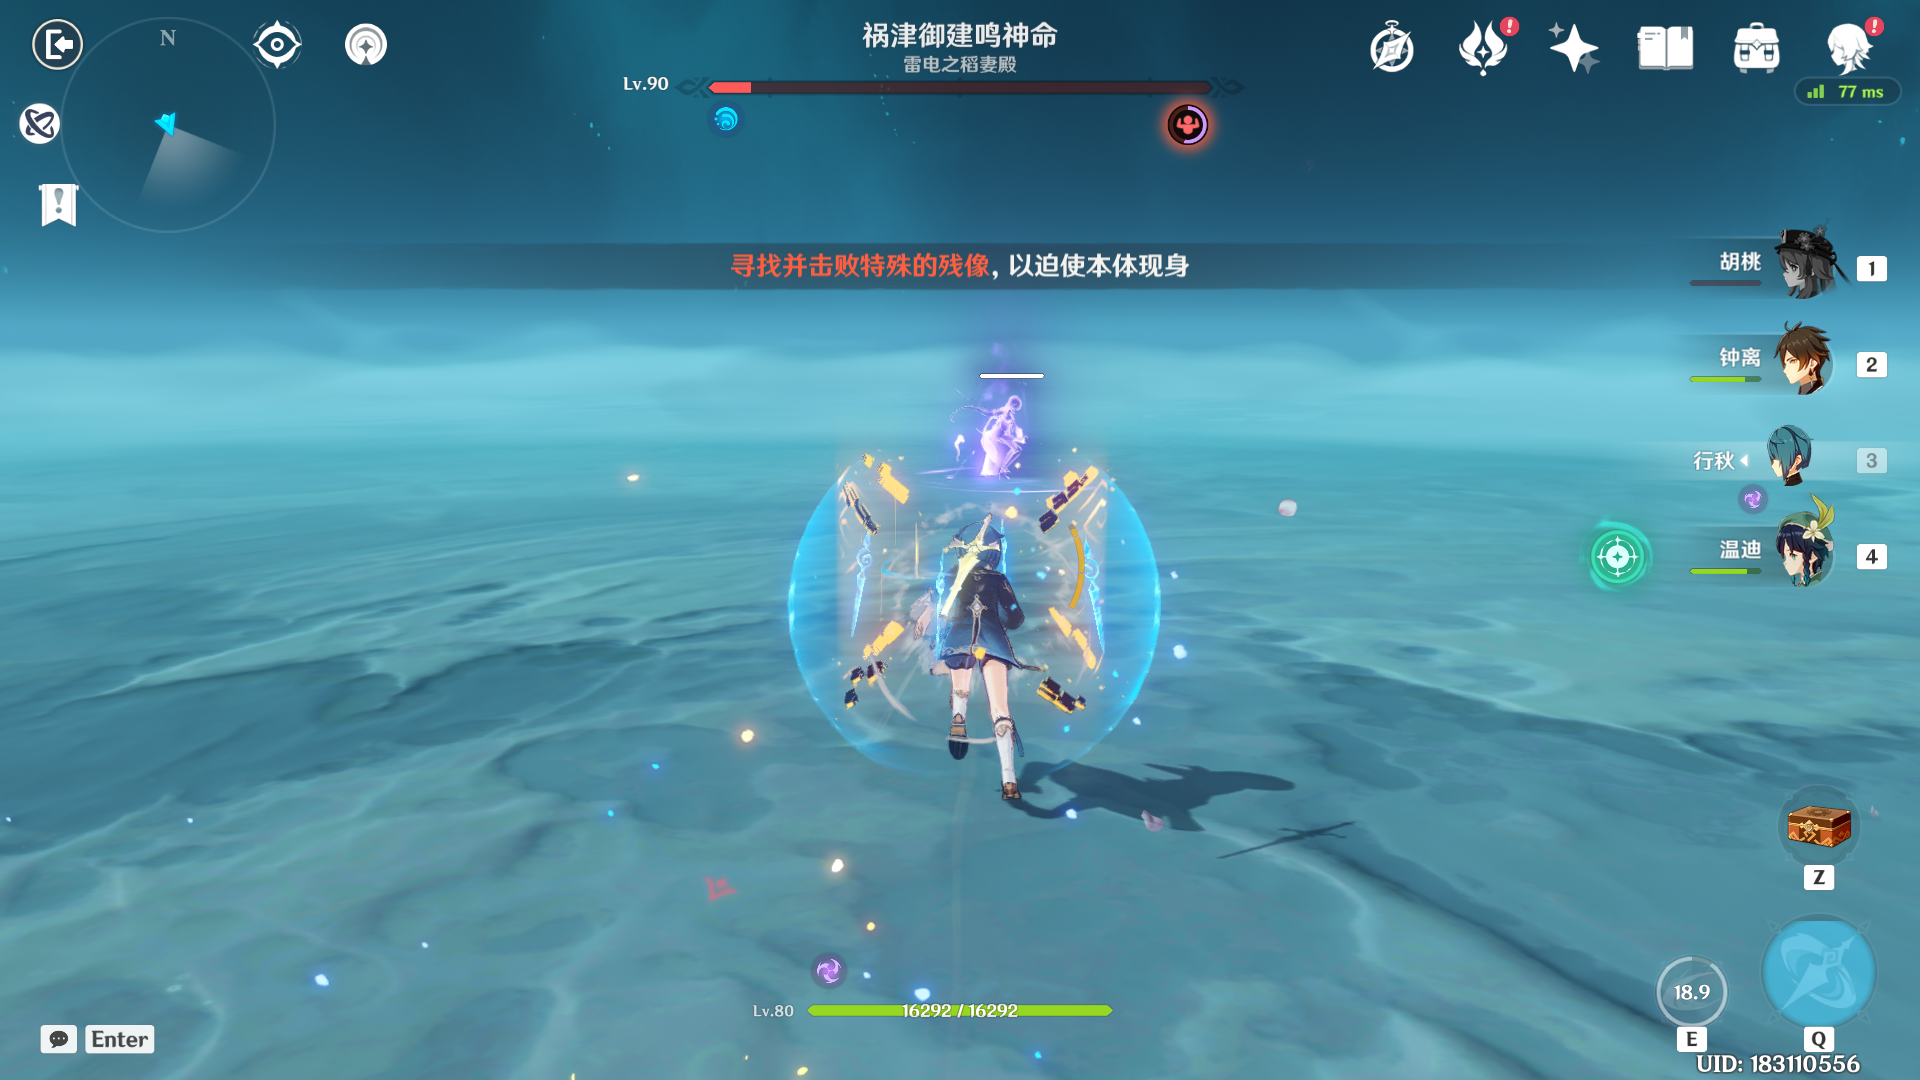character: (858, 469, 1076, 887)
